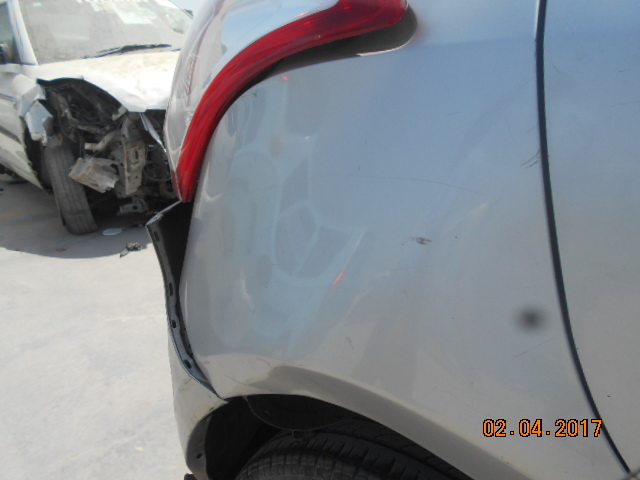Dislocation: (137, 208, 231, 393)
